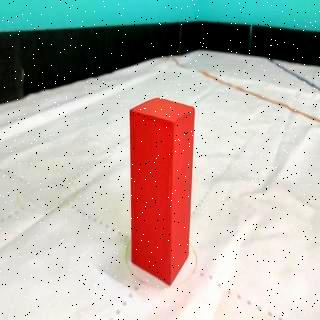redbox: (128, 96, 195, 286)
